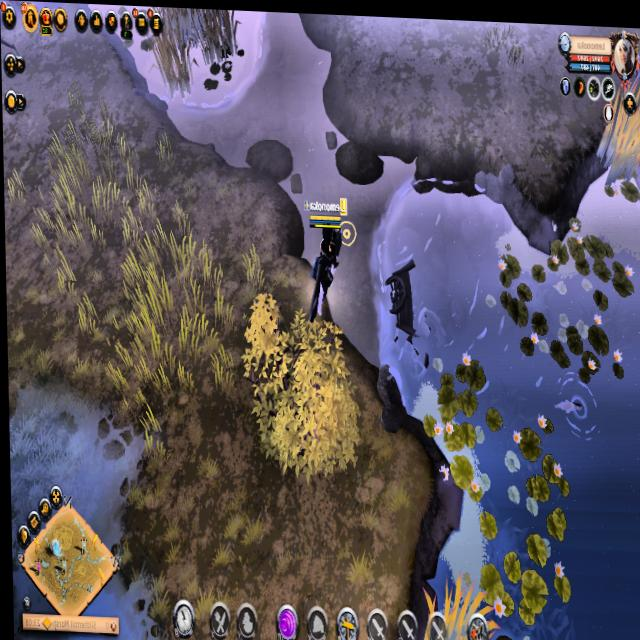fish: (551, 360, 600, 440)
